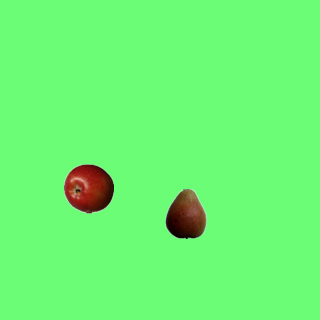Apple Braeburn: (63, 163, 113, 213)
Pear Forelle: (160, 188, 210, 238)
